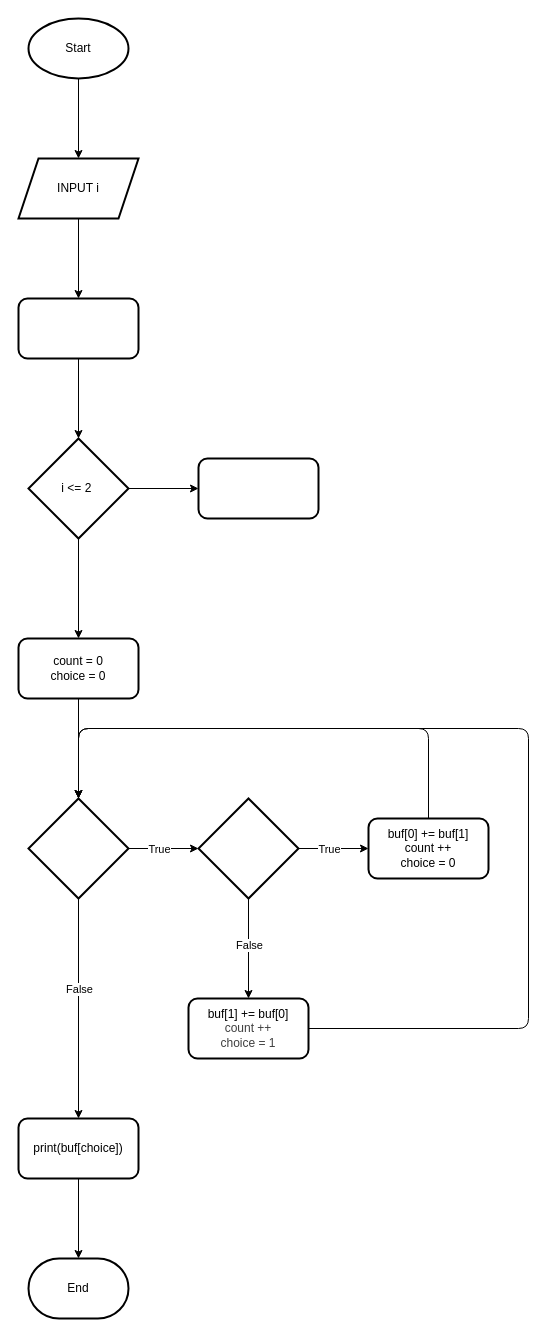
Image size: 554x1336. Some labels were removed from this diagram. Here are the shapes that lost their labels. From the top down, the centre of each, then its label:
At point 78,328: "buf = [0, 1]".
At point 258,488: "print(buf[i - 1])".
At point 78,848: "count <= i - 1".
At point 248,848: "count % 2 == 0".
